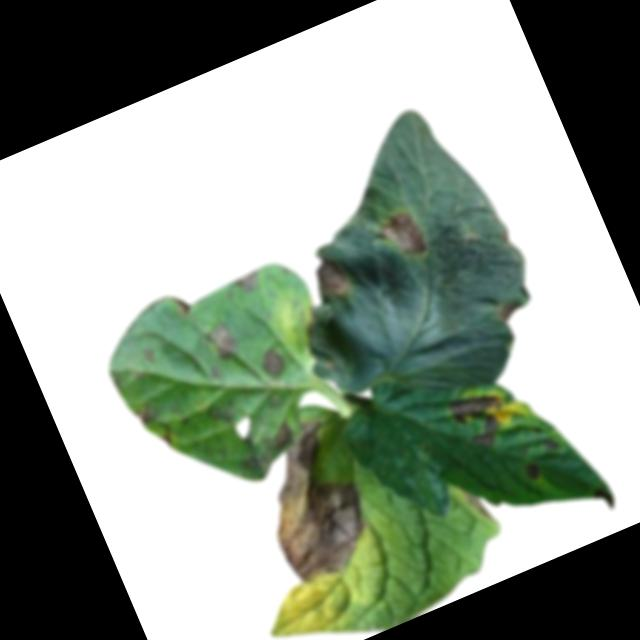Early_blight: (239, 415, 384, 586), (446, 383, 513, 456), (374, 203, 433, 267), (309, 251, 358, 305), (200, 317, 244, 363), (461, 482, 493, 527), (488, 292, 526, 325), (231, 266, 264, 295), (259, 346, 287, 378), (591, 482, 618, 514), (264, 421, 294, 449), (131, 401, 158, 427), (522, 457, 544, 481), (173, 292, 194, 315), (541, 433, 560, 451)
